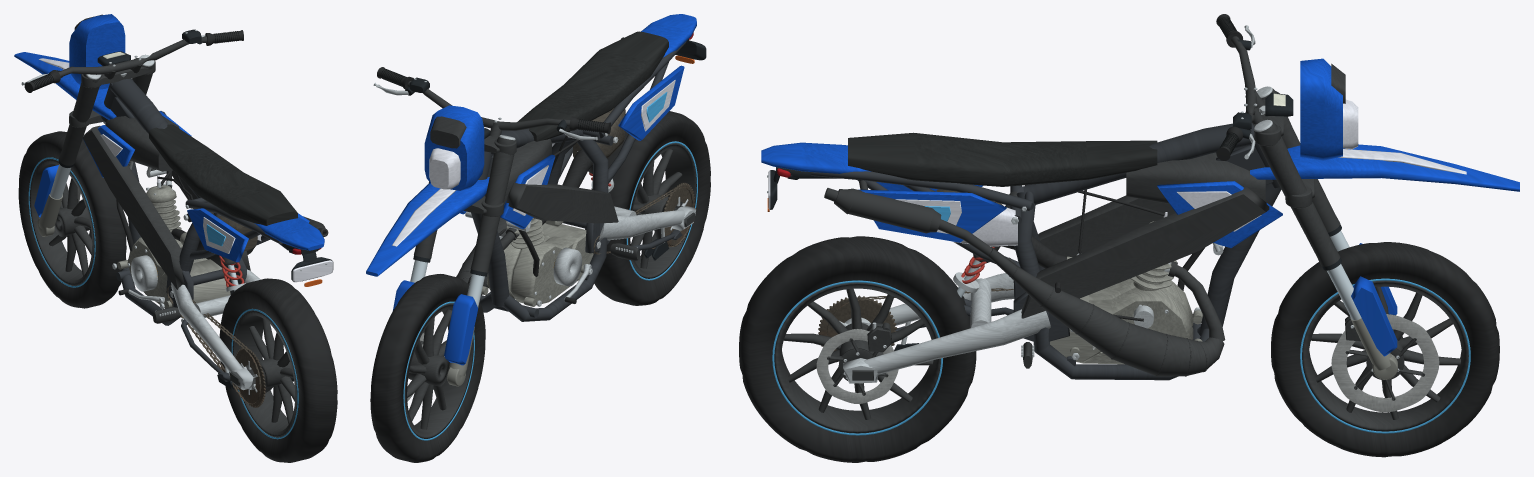
File: SendaSM50Catalog-pbr.glb
3 views of the same model, side by side, from view 1: azimuth 30°, elevation 25°; view 2: azimuth 150°, elevation 25°; view 3: azimuth 270°, elevation 25° (orthographic). The views are drawn at different scales.
Parts seen in each view (by area): view 1: Part_sd_wheel_rear_17, Part_sd_wheel_front_17, Frame, Part_sd_seat_std, Part_sd_fork_std, Part_sd_swingarm_std, Part_sd_handlebar_std, Part_sd_tail_plate, Part_sd_headlight_mask, Part_sd_tank_std, Part_sd_block, Part_sd_side_panel_l (+9 smaller); view 2: Part_sd_wheel_front_17, Part_sd_wheel_rear_17, Frame, Part_sd_seat_std, Part_sd_fork_std, Part_sd_headlight_mask, Part_sd_front_fender, Part_sd_block, Part_sd_handlebar_std, Part_sd_swingarm_std, Part_sd_tank_std, Part_sd_side_panel_l (+7 smaller); view 3: Part_sd_wheel_rear_17, Frame, Part_sd_wheel_front_17, Part_sd_exhaust, Part_sd_seat_std, Part_sd_fork_std, Part_sd_swingarm_std, Part_sd_tank_std, Part_sd_front_fender, Part_sd_headlight_mask, Part_sd_block, Part_sd_brake_front_std (+8 smaller).
Boxes of the visible parts, <box> form: Part_sd_wheel_rear_17: <box>219,278,337,462</box>; Part_sd_wheel_front_17: <box>18,131,126,308</box>; Frame: <box>82,78,282,381</box>; Part_sd_seat_std: <box>149,124,297,225</box>; Part_sd_fork_std: <box>34,54,155,236</box>; Part_sd_swingarm_std: <box>171,269,260,390</box>; Part_sd_handlebar_std: <box>21,29,243,92</box>; Part_sd_tail_plate: <box>254,217,333,286</box>; Part_sd_headlight_mask: <box>69,14,125,89</box>; Part_sd_tank_std: <box>83,111,191,177</box>; Part_sd_block: <box>117,237,230,317</box>; Part_sd_side_panel_l: <box>187,208,248,262</box>; Part_sd_wheel_front_17: <box>370,274,485,462</box>; Part_sd_wheel_rear_17: <box>585,111,710,305</box>; Frame: <box>471,41,686,321</box>; Part_sd_seat_std: <box>517,31,668,141</box>; Part_sd_fork_std: <box>393,135,516,386</box>; Part_sd_headlight_mask: <box>424,105,484,190</box>; Part_sd_front_fender: <box>366,177,489,276</box>; Part_sd_block: <box>481,223,593,306</box>; Part_sd_handlebar_std: <box>373,67,610,140</box>; Part_sd_swingarm_std: <box>599,206,695,260</box>; Part_sd_tank_std: <box>460,138,555,228</box>; Part_sd_side_panel_l: <box>618,65,684,140</box>; Part_sd_wheel_rear_17: <box>739,236,976,462</box>; Frame: <box>811,123,1281,380</box>; Part_sd_wheel_front_17: <box>1271,242,1499,457</box>; Part_sd_exhaust: <box>824,180,1225,376</box>; Part_sd_seat_std: <box>848,132,1157,186</box>; Part_sd_fork_std: <box>1254,86,1397,379</box>; Part_sd_swingarm_std: <box>843,273,1050,383</box>; Part_sd_tank_std: <box>1126,152,1282,247</box>; Part_sd_front_fender: <box>1250,144,1519,191</box>; Part_sd_headlight_mask: <box>1300,58,1358,160</box>; Part_sd_block: <box>1050,278,1202,364</box>; Part_sd_brake_front_std: <box>1331,314,1439,412</box>.
Size of the model in its own units: 0.83 by 1.12 by 2.02.
Materials: 1 (1 with a texture image).
